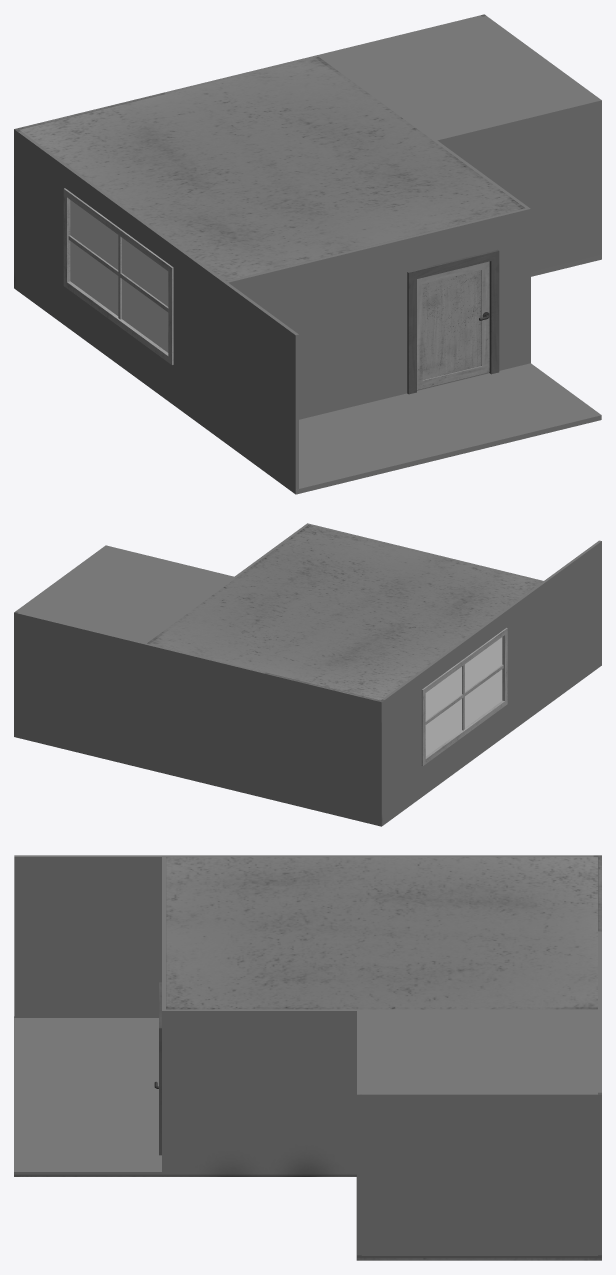
The model's file is Bedroom (1).fbx.
The picture shows the model from 3 angles, top to bottom: view 1: azimuth 30°, elevation 25°; view 2: azimuth 150°, elevation 25°; view 3: azimuth 270°, elevation 25°; orthographic projection. The views are drawn at different scales.
Visible parts, largest first — view 1: Room, WindowFrame, Door, DoorFrame; view 2: Room, WindowFrame; view 3: Room.
Boxes of the visible parts, x1,y1,x2,y2 form: Room: [14, 14, 601, 494]; WindowFrame: [63, 188, 173, 364]; Door: [417, 261, 489, 389]; DoorFrame: [407, 249, 499, 394]; Room: [14, 523, 601, 826]; WindowFrame: [421, 628, 507, 765]; Room: [14, 855, 601, 1260].
Size of the model in its own units: 1578 by 509 by 1632.
Materials: 9 (7 with a texture image).
